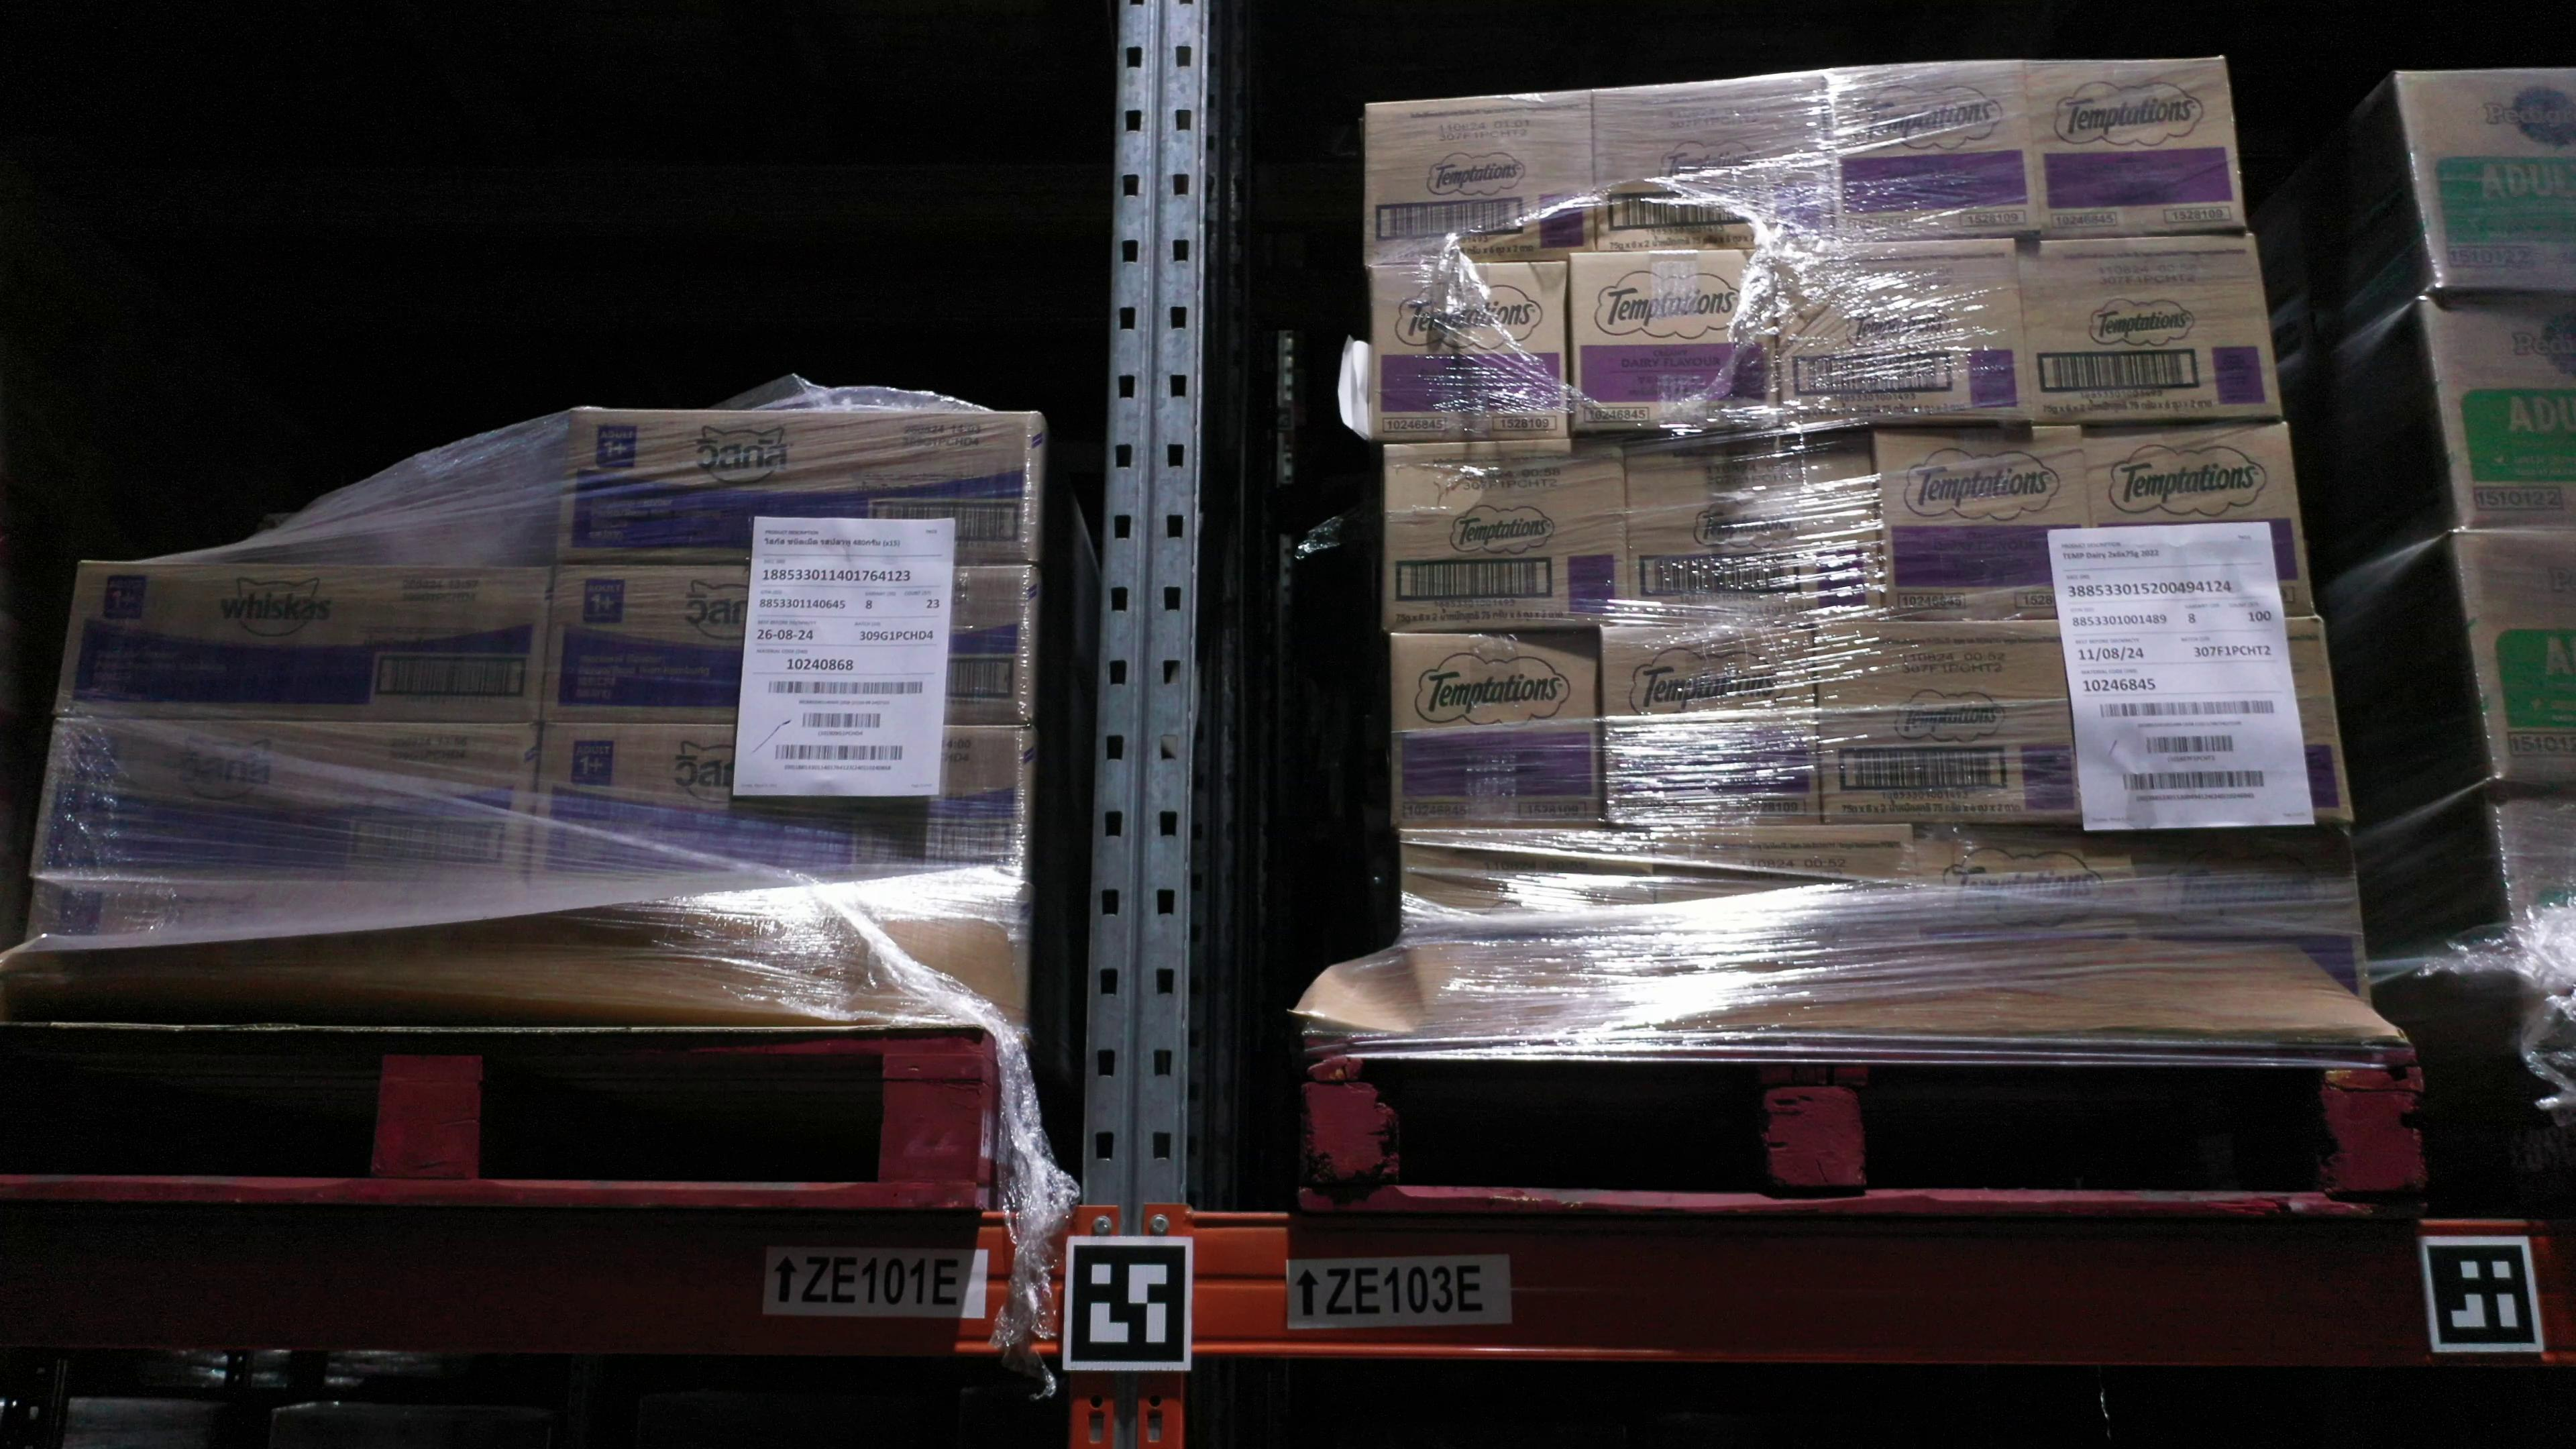-: (525, 720, 1028, 895), (35, 720, 540, 890), (57, 561, 552, 722), (540, 566, 1031, 727), (552, 407, 1037, 568), (1808, 619, 2102, 828), (2088, 616, 2353, 830), (1626, 432, 1891, 628), (2017, 235, 2281, 423), (1384, 441, 1633, 630), (1780, 237, 2028, 426), (1591, 71, 1838, 257), (1599, 621, 1822, 824), (2130, 823, 2371, 1010), (2082, 425, 2314, 619), (1875, 423, 2102, 619), (1396, 630, 1605, 828), (2396, 65, 2576, 290), (1822, 60, 2042, 244), (1568, 251, 1780, 439), (1364, 92, 1592, 265), (2024, 58, 2247, 235), (2417, 287, 2576, 527), (1371, 260, 1573, 441), (2452, 527, 2576, 786), (1652, 828, 1918, 939), (1401, 828, 1660, 939), (1914, 824, 2137, 941), (2491, 794, 2576, 985)
